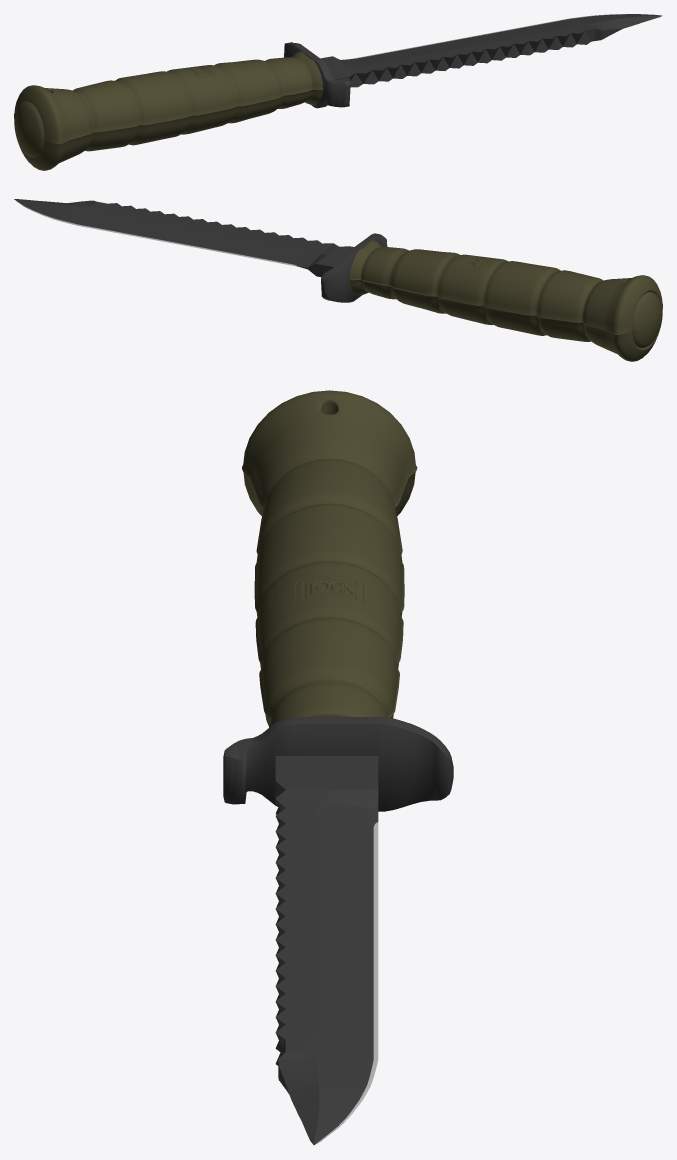
Rendered from Combat_Knife.glb.
3 renders of one model, top to bottom at view 1: azimuth 30°, elevation 25°; view 2: azimuth 150°, elevation 25°; view 3: azimuth 270°, elevation 25°, orthographic. The views are drawn at different scales.
Parts seen in each view (by area): view 1: Grip, Blade, Guard.002; view 2: Grip, Blade, Guard.002; view 3: Grip, Blade, Guard.002.
Boxes of the visible parts, <box> form: Grip: <box>14,51,323,170</box>; Blade: <box>320,14,662,87</box>; Guard.002: <box>284,42,350,108</box>; Grip: <box>350,241,662,361</box>; Blade: <box>14,199,353,277</box>; Guard.002: <box>321,233,387,302</box>; Grip: <box>242,390,417,727</box>; Blade: <box>275,756,378,1145</box>; Guard.002: <box>223,717,453,811</box>.
Bounding box in the file's own units: 7.31 × 0.86 × 1.15.
